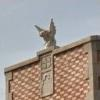Statue: (19, 7, 86, 65)
